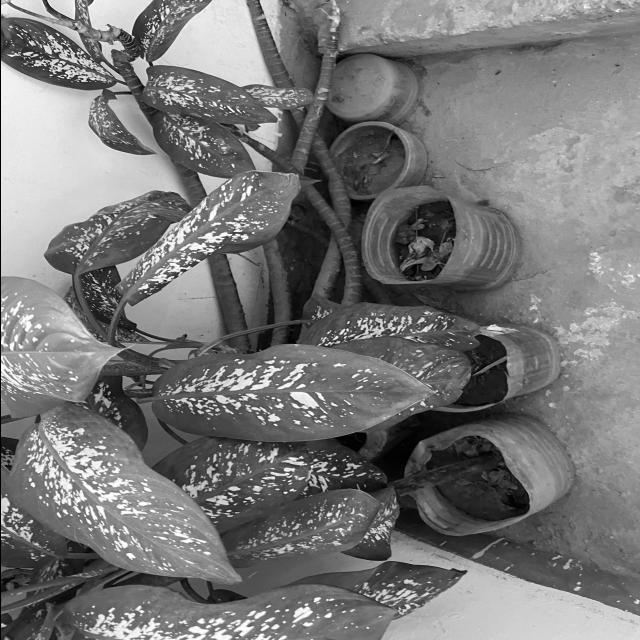Breeding Place: (404, 414, 576, 533), (367, 186, 507, 284), (411, 323, 559, 409), (328, 126, 421, 200)
